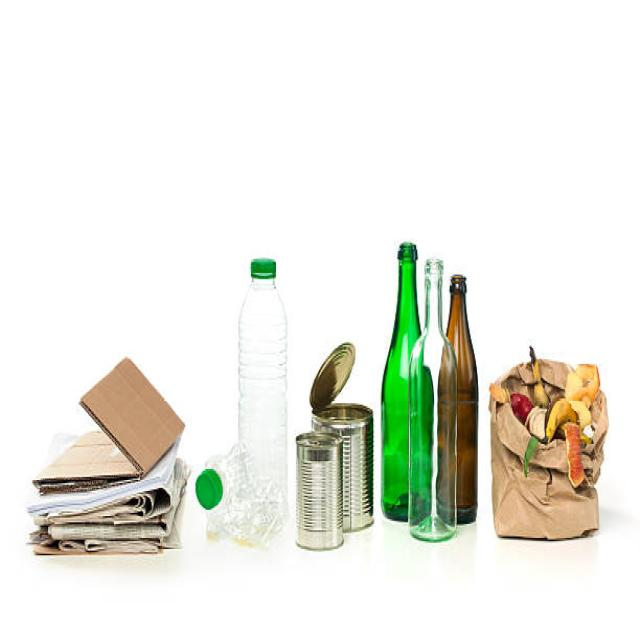cardboard: (30, 358, 186, 492)
glass: (408, 246, 458, 546)
metal: (295, 328, 375, 540)
plastic: (237, 251, 286, 543)
trash: (487, 343, 616, 542)
